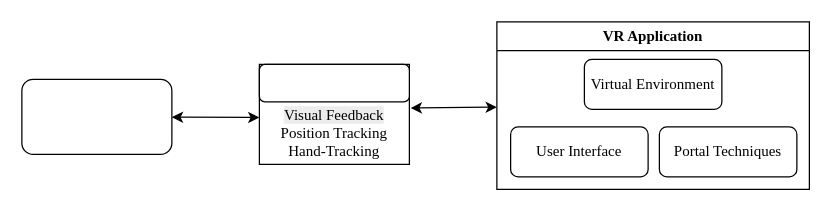
Some shapes in this 831 by 211 pixel diagram are drawn without their labels. Each missing label, with the centre of its shape:
"HMD" goes at point 333,82.
"User" goes at point 96,116.
